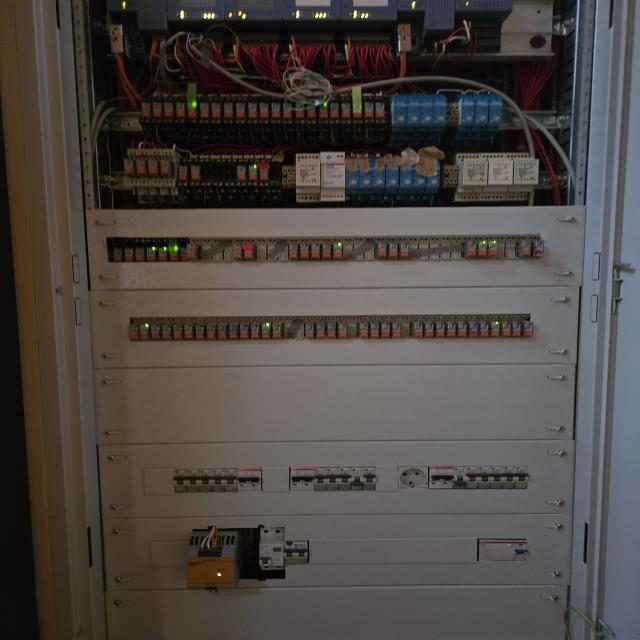Dimmer: (503, 153, 539, 201), (454, 153, 489, 201), (479, 153, 514, 201), (320, 152, 346, 201), (296, 153, 320, 202), (392, 95, 406, 142), (406, 95, 419, 140), (459, 94, 474, 132), (399, 157, 414, 193), (371, 158, 386, 194), (346, 158, 360, 194), (488, 96, 502, 130), (385, 158, 399, 192), (420, 95, 432, 134), (433, 95, 445, 133), (359, 157, 371, 194), (476, 95, 488, 131), (426, 158, 438, 192), (413, 158, 424, 193)
FI: (477, 539, 528, 561)
FI_Sicherungskombi: (260, 528, 284, 570)
Leitungsschutzschalter: (187, 469, 200, 492), (200, 469, 213, 492), (453, 466, 466, 489), (478, 466, 491, 489), (283, 541, 296, 564), (174, 470, 187, 492), (338, 468, 351, 490), (429, 467, 442, 489), (213, 469, 225, 492), (238, 468, 250, 491), (250, 468, 262, 491), (302, 467, 314, 490), (364, 466, 376, 489), (466, 466, 478, 489), (503, 466, 515, 489), (516, 466, 528, 489), (491, 466, 503, 489), (225, 469, 237, 491), (290, 468, 302, 490), (314, 468, 326, 490), (327, 467, 338, 491), (352, 468, 364, 490), (442, 466, 453, 489), (297, 541, 308, 564)
Relais: (517, 240, 531, 258), (532, 240, 544, 257), (210, 102, 222, 118), (376, 242, 388, 258), (464, 241, 476, 257), (412, 321, 423, 338), (123, 158, 134, 174), (259, 102, 269, 119), (136, 158, 146, 175), (424, 321, 434, 338), (446, 321, 456, 338), (468, 321, 478, 338), (479, 321, 489, 338), (490, 321, 500, 338), (247, 103, 258, 118), (161, 324, 172, 339), (183, 324, 194, 339), (175, 102, 185, 118), (270, 102, 280, 118), (282, 103, 292, 119), (364, 102, 374, 118), (375, 102, 385, 118), (148, 158, 158, 174), (399, 242, 409, 258), (129, 324, 139, 340), (139, 324, 149, 340), (150, 324, 160, 340), (228, 323, 238, 339), (391, 322, 401, 338), (457, 322, 467, 338), (501, 321, 511, 337), (512, 321, 522, 337), (223, 103, 234, 117), (236, 102, 245, 119), (198, 102, 208, 117), (160, 160, 170, 175), (248, 165, 258, 180), (258, 165, 268, 180), (188, 244, 198, 259), (288, 244, 298, 259), (173, 324, 183, 339), (250, 323, 260, 338), (261, 323, 271, 338), (272, 323, 282, 338), (316, 323, 326, 338), (326, 323, 336, 338), (358, 323, 368, 338), (389, 242, 398, 258), (488, 241, 497, 257), (370, 322, 379, 338), (523, 321, 532, 337), (141, 103, 151, 117), (146, 247, 156, 261), (243, 244, 253, 258), (296, 102, 304, 119), (436, 321, 444, 338), (153, 102, 162, 117), (164, 102, 173, 117), (307, 103, 316, 118), (329, 103, 338, 118), (341, 103, 350, 118), (353, 103, 362, 118), (333, 243, 342, 258), (195, 324, 204, 339), (207, 324, 216, 339), (217, 324, 226, 339), (305, 323, 314, 338), (338, 323, 347, 338), (381, 322, 390, 337), (188, 102, 196, 118), (319, 103, 327, 119), (478, 241, 486, 257), (240, 323, 248, 339), (190, 166, 199, 180), (237, 166, 246, 180), (113, 248, 122, 262), (169, 247, 178, 261), (233, 244, 242, 258), (311, 244, 320, 258), (322, 244, 331, 258), (125, 247, 133, 262), (300, 244, 308, 259), (158, 247, 167, 260), (179, 166, 187, 180), (136, 248, 144, 261), (180, 248, 188, 261)
SPS-System -Steuerungskomponente-: (166, 0, 225, 20), (225, 0, 282, 20), (340, 0, 397, 20), (282, 0, 339, 19)
Schaltkasten: (35, 0, 630, 640)
Verbinder: (282, 165, 296, 189), (445, 102, 459, 126), (443, 165, 458, 187)
